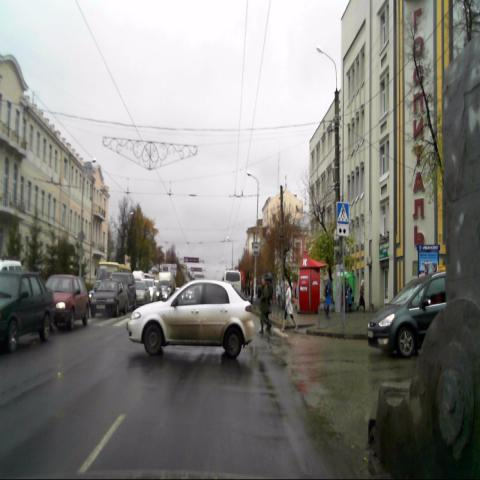5_19_1: (336, 201, 350, 225)
8_15: (337, 225, 348, 235)
